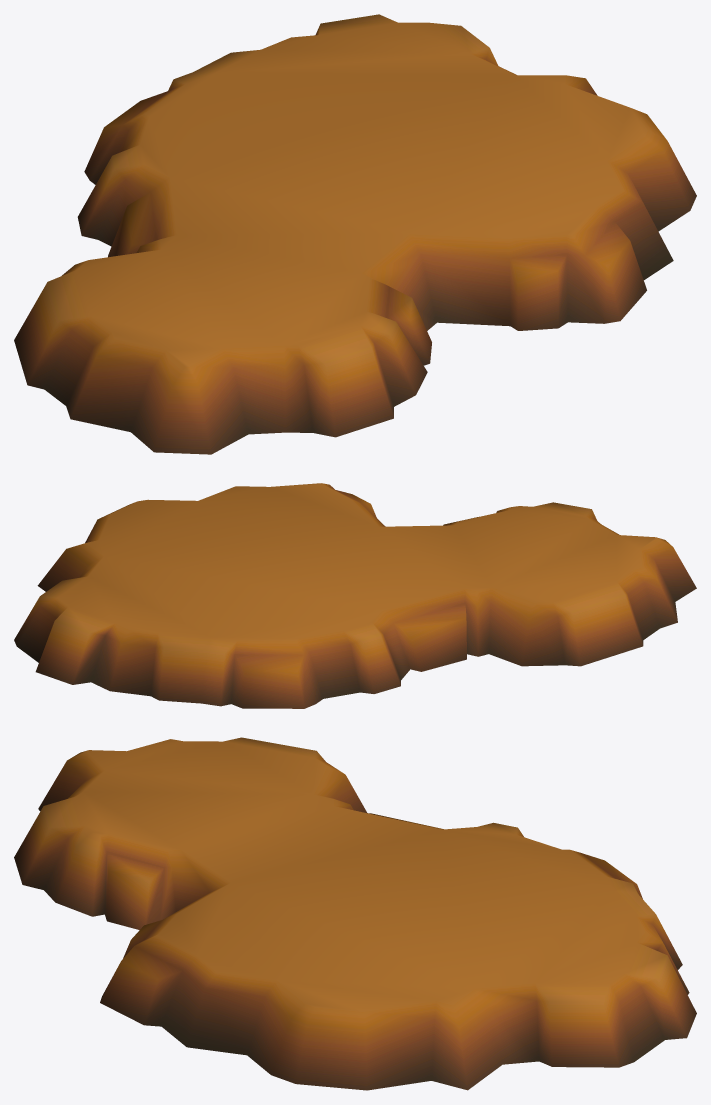
The model's file is m_Platform02_B.fbx.
The picture shows the model from 3 angles, top to bottom: view 1: azimuth 30°, elevation 25°; view 2: azimuth 150°, elevation 25°; view 3: azimuth 270°, elevation 25°; orthographic projection. The views are drawn at different scales.
Visible parts, largest first — view 1: m_Platform02_B; view 2: m_Platform02_B; view 3: m_Platform02_B.
Part boxes in pixels (x1,y1,x2,y2): m_Platform02_B: (14,14,696,454); m_Platform02_B: (14,483,696,708); m_Platform02_B: (14,737,696,1090).
Bounding box in the file's own units: 2233 × 200 × 2066.
